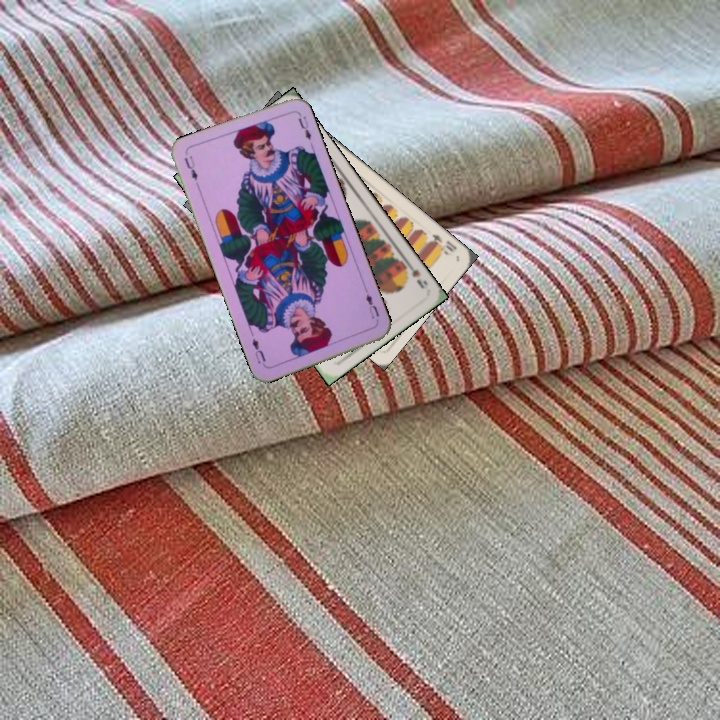E10: (425, 230, 459, 258)
EU: (180, 151, 202, 190), (361, 285, 382, 325)
S9: (399, 257, 431, 291)
